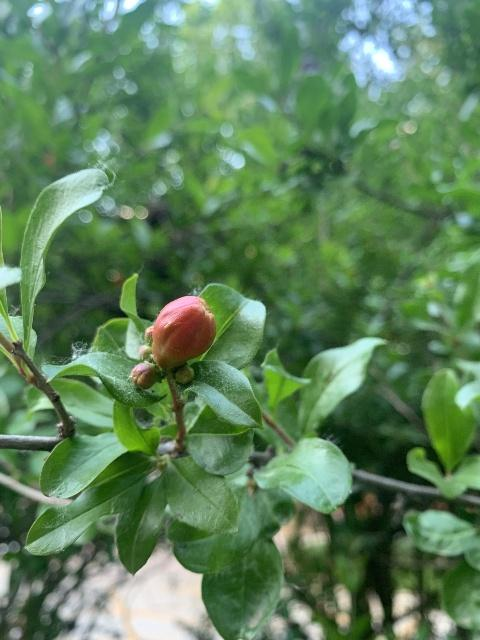bud: (146, 295, 216, 370), (130, 362, 157, 389)
